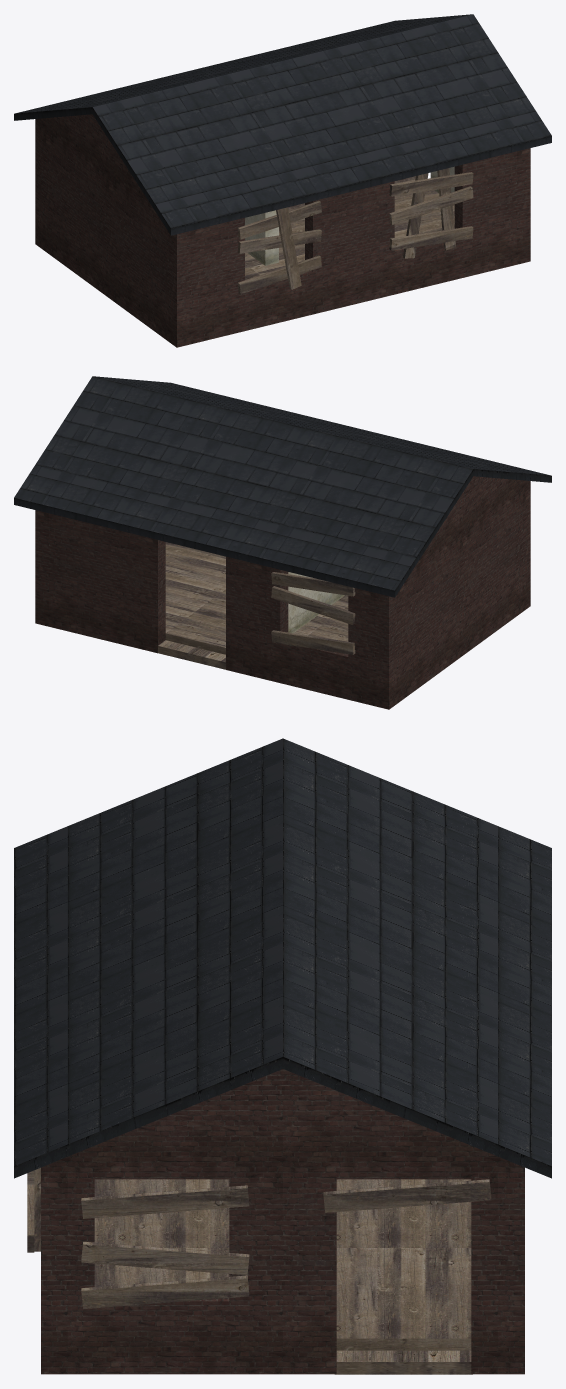
File: BrickHouse.fbx
3 views of the same model, one above another, from view 1: azimuth 30°, elevation 25°; view 2: azimuth 150°, elevation 25°; view 3: azimuth 270°, elevation 25° (orthographic). The views are drawn at different scales.
Visible parts, largest first — view 1: polySurface7; view 2: polySurface7; view 3: polySurface7.
Part boxes in pixels (x1,y1,x2,y2): polySurface7: (14, 14, 551, 347); polySurface7: (14, 376, 551, 709); polySurface7: (14, 738, 551, 1374).
Bounding box in the file's own units: 1139 × 549 × 814.
